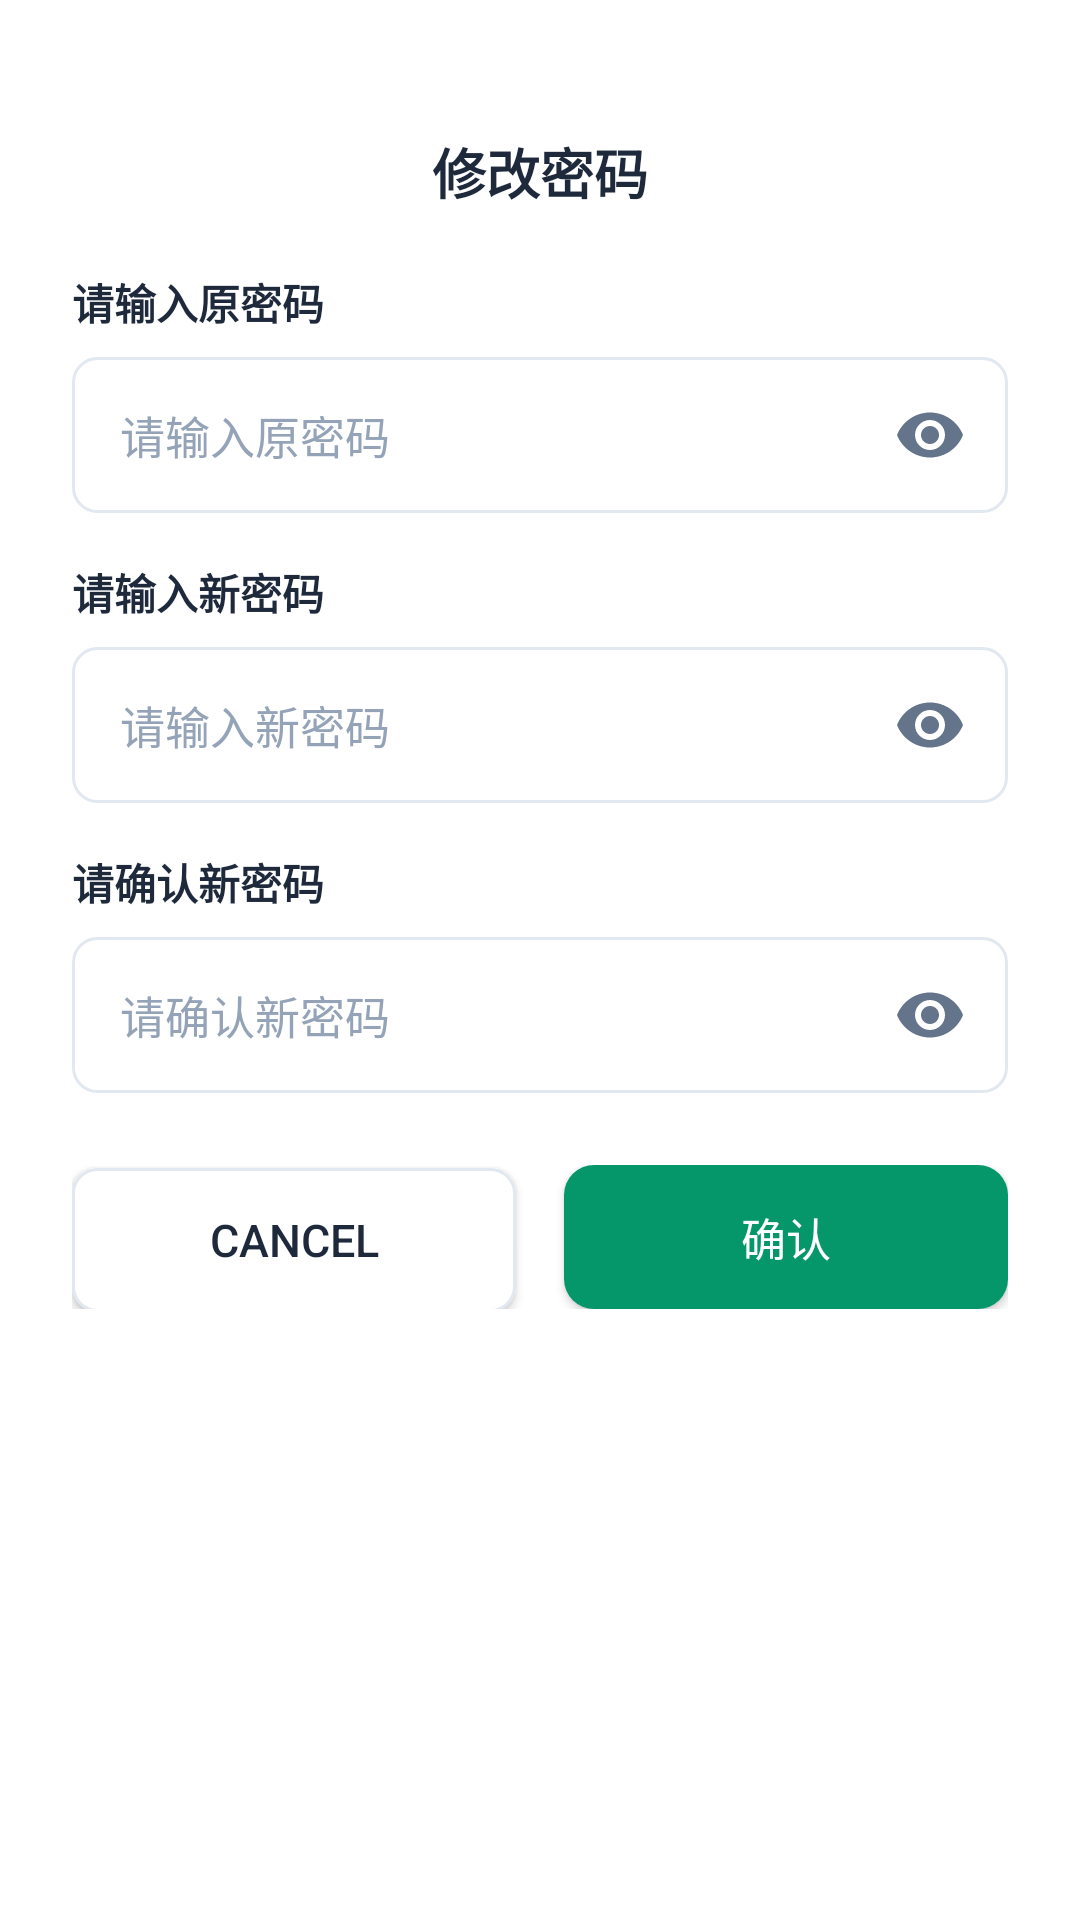

Icons on this 1080w x 1920h Android screen, each with the point to tap as (x=x, y=y):
显示密码: (x=930, y=435), (x=930, y=725), (x=930, y=1015)
